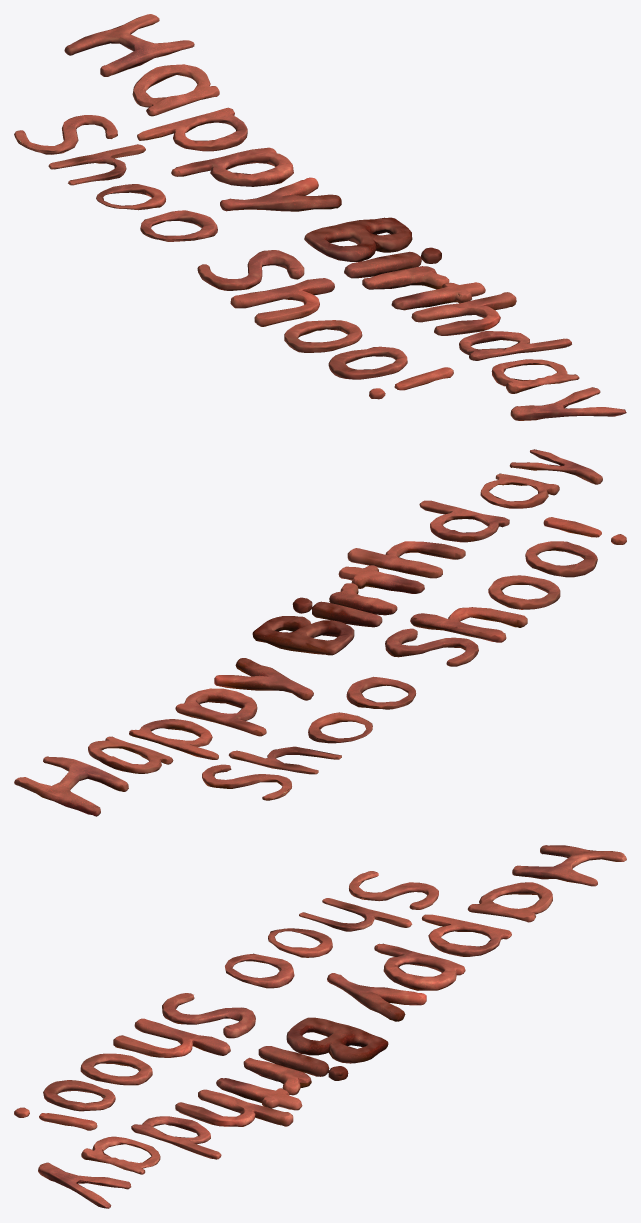
Rendered from caketext.obj.
3 views of the same model, one above another, from view 1: azimuth 30°, elevation 25°; view 2: azimuth 150°, elevation 25°; view 3: azimuth 330°, elevation 25° (orthographic). The views are drawn at different scales.
Parts seen in each view (by area): view 1: caketext1 group3 BedroomBakedTriExport; view 2: caketext1 group3 BedroomBakedTriExport; view 3: caketext1 group3 BedroomBakedTriExport.
Part boxes in pixels (x1,y1,x2,y2): caketext1 group3 BedroomBakedTriExport: [14, 14, 626, 420]; caketext1 group3 BedroomBakedTriExport: [14, 449, 626, 816]; caketext1 group3 BedroomBakedTriExport: [14, 845, 626, 1208].
Size of the model in its own units: 0.0623 by 0.00816 by 0.2454.
Materials: 1 (1 with a texture image).
